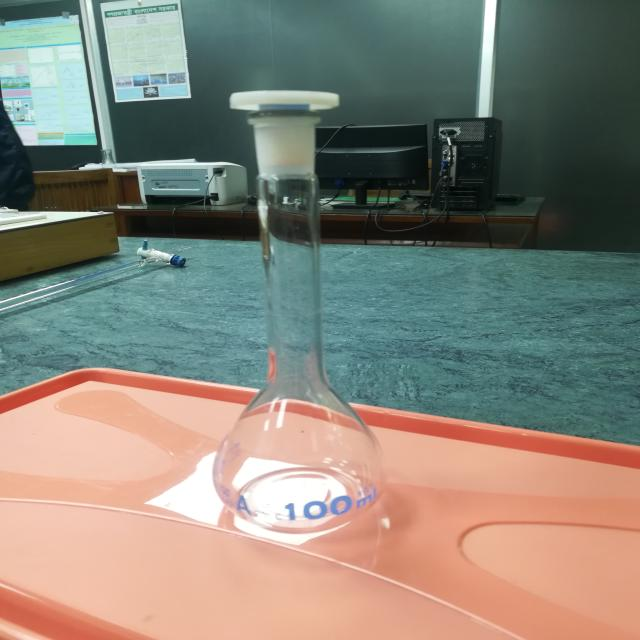Volumetric_Flask: (183, 28, 416, 547)
